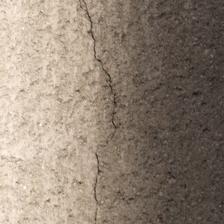Crack: (1, 27, 112, 95), (0, 0, 63, 107)
